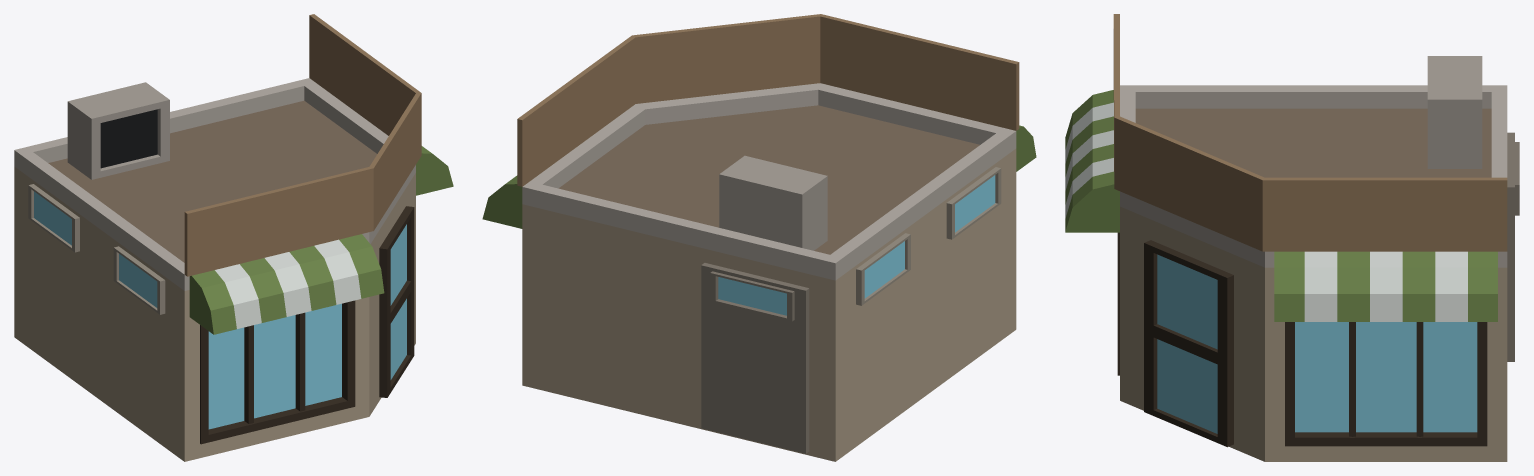
The model's file is SM_house_06_B.gltf.
The picture shows the model from 3 angles, left to right: view 1: azimuth 30°, elevation 25°; view 2: azimuth 150°, elevation 25°; view 3: azimuth 270°, elevation 25°; orthographic projection. The views are drawn at different scales.
Visible parts, largest first — view 1: SM_market_02_A; view 2: SM_market_02_A; view 3: SM_market_02_A.
Boxes of the visible parts, bbox=[...] form: SM_market_02_A: bbox=[14, 14, 453, 461]; SM_market_02_A: bbox=[482, 14, 1036, 461]; SM_market_02_A: bbox=[1065, 14, 1519, 461].
Size of the model in its own units: 3.44 by 2.41 by 3.49.
